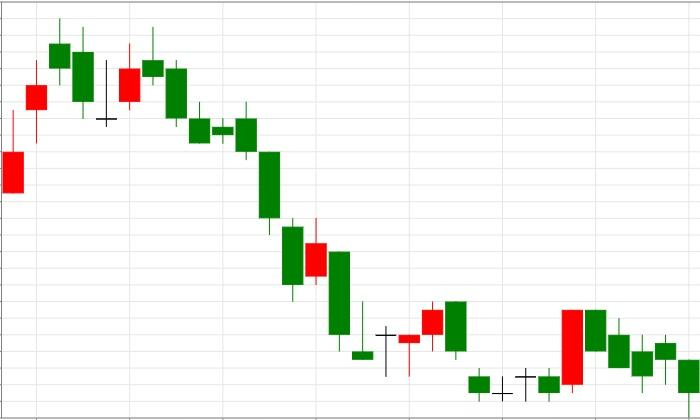bearish_engulfing_fall: (352, 301, 467, 376)
